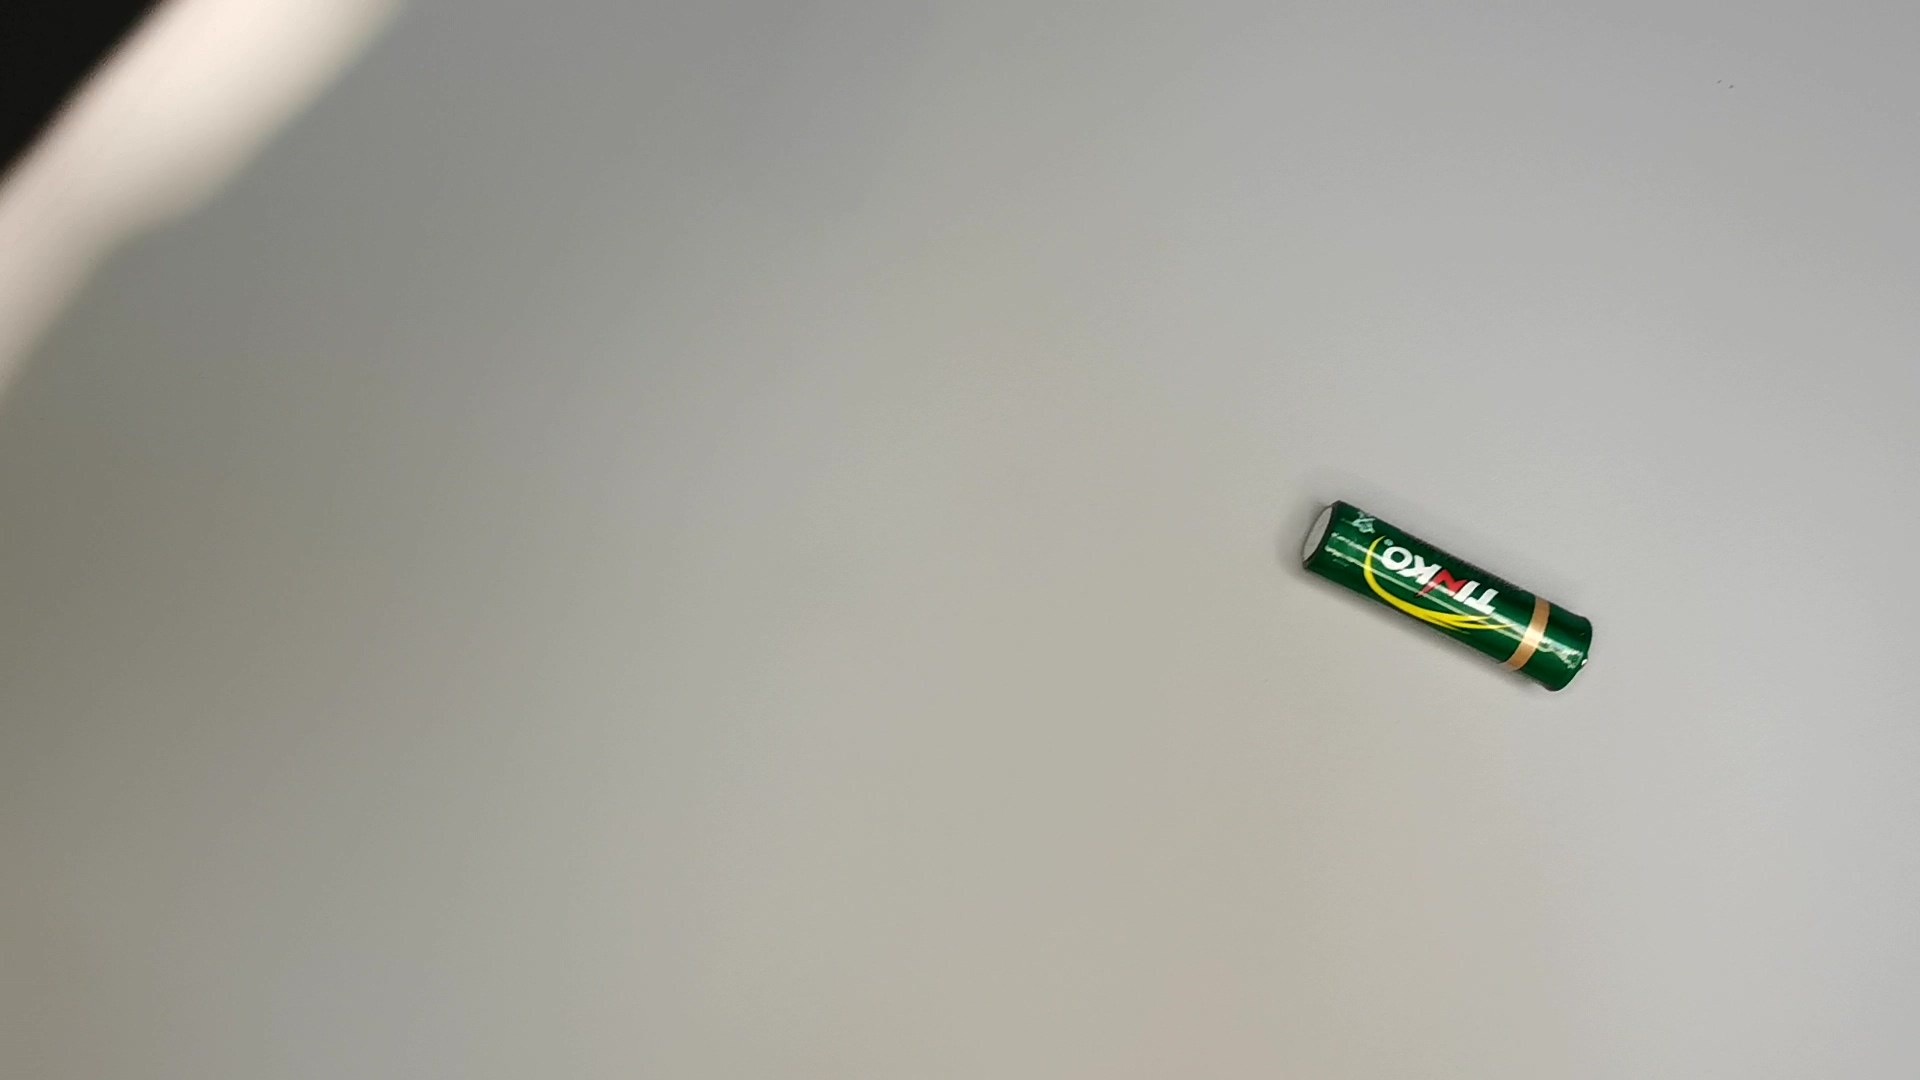battery: (1300, 497, 1600, 698)
